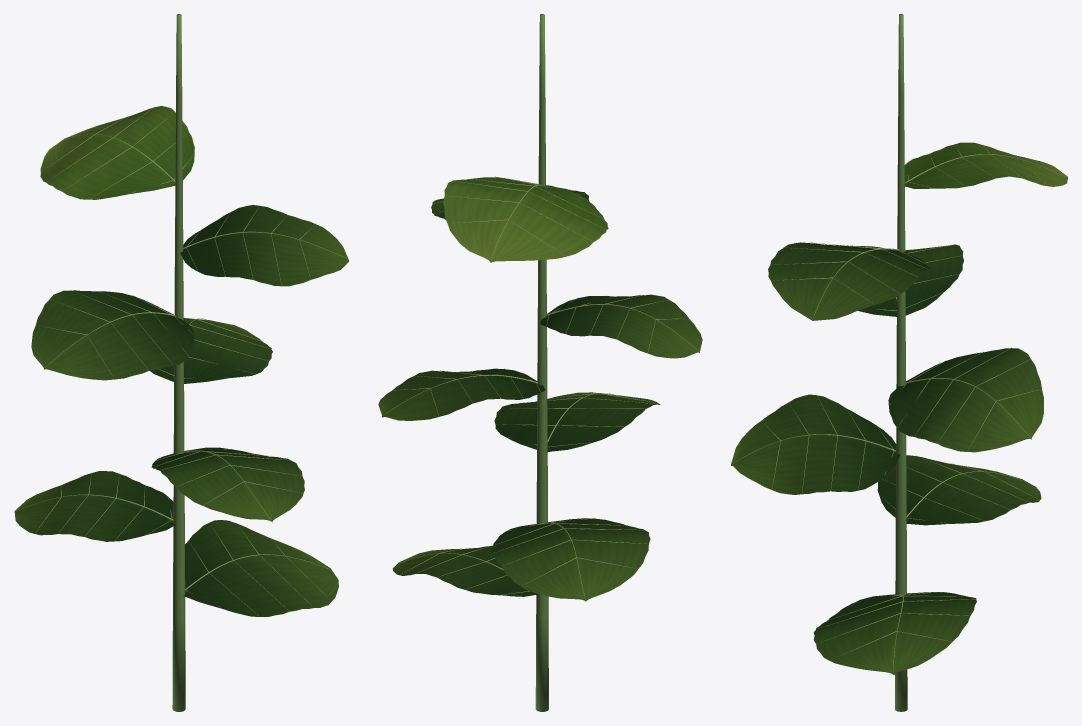
Rendered from sunflower-06.glb.
3 views of the same model, side by side, from view 1: azimuth 30°, elevation 25°; view 2: azimuth 150°, elevation 25°; view 3: azimuth 270°, elevation 25° (orthographic).
Visible parts, largest first — view 1: sunflower_stage_06_leaf_veins.010, sunflower_stage_06_young_leaf.010, sunflower_stage_06_stem_fibres.010, sunflower_stage_06_raised_midveins.010; view 2: sunflower_stage_06_leaf_veins.010, sunflower_stage_06_young_leaf.010, sunflower_stage_06_stem_fibres.010, sunflower_stage_06_raised_midveins.010; view 3: sunflower_stage_06_leaf_veins.010, sunflower_stage_06_young_leaf.010, sunflower_stage_06_stem_fibres.010, sunflower_stage_06_raised_midveins.010.
Part boxes in pixels (bbox=[...]): sunflower_stage_06_leaf_veins.010: bbox=[14, 205, 348, 616]; sunflower_stage_06_young_leaf.010: bbox=[40, 106, 194, 199]; sunflower_stage_06_stem_fibres.010: bbox=[172, 14, 185, 711]; sunflower_stage_06_raised_midveins.010: bbox=[15, 107, 348, 615]; sunflower_stage_06_leaf_veins.010: bbox=[378, 185, 702, 601]; sunflower_stage_06_young_leaf.010: bbox=[443, 177, 608, 262]; sunflower_stage_06_stem_fibres.010: bbox=[535, 14, 548, 711]; sunflower_stage_06_raised_midveins.010: bbox=[383, 176, 699, 599]; sunflower_stage_06_leaf_veins.010: bbox=[731, 242, 1043, 674]; sunflower_stage_06_young_leaf.010: bbox=[903, 142, 1067, 188]; sunflower_stage_06_stem_fibres.010: bbox=[895, 14, 907, 711]; sunflower_stage_06_raised_midveins.010: bbox=[732, 144, 1066, 672].
Bounding box in the file's own units: 0.2033 × 0.4587 × 0.2018.
Materials: 4 (2 with a texture image).
